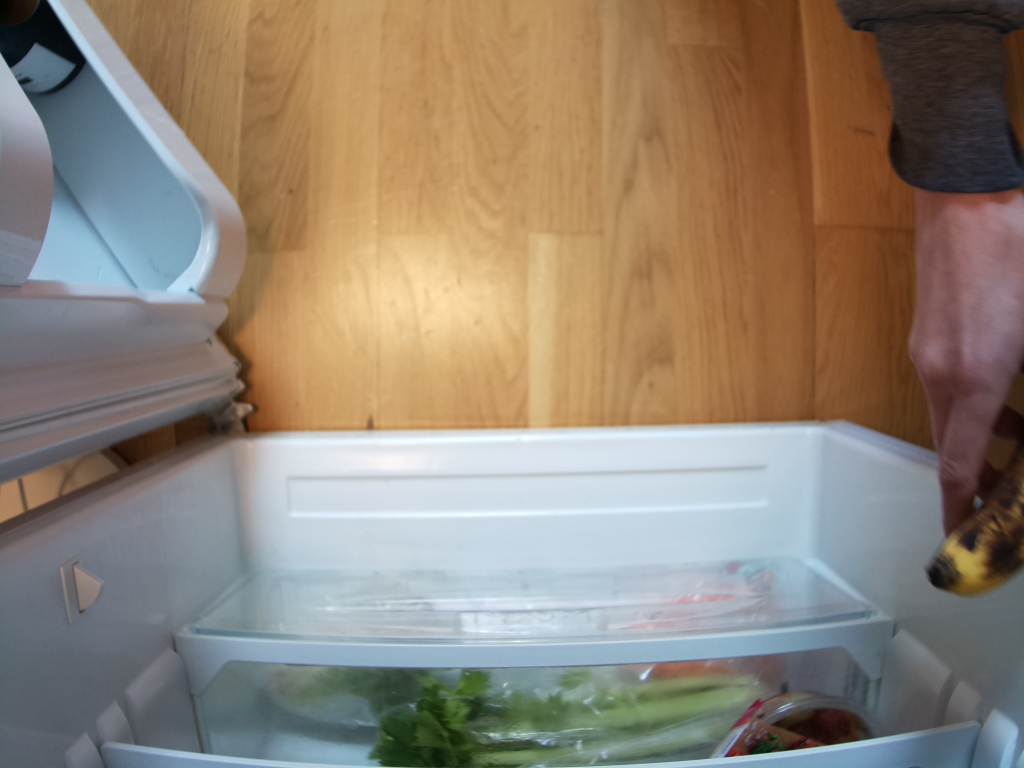banana-overripe: (931, 482, 1024, 596)
